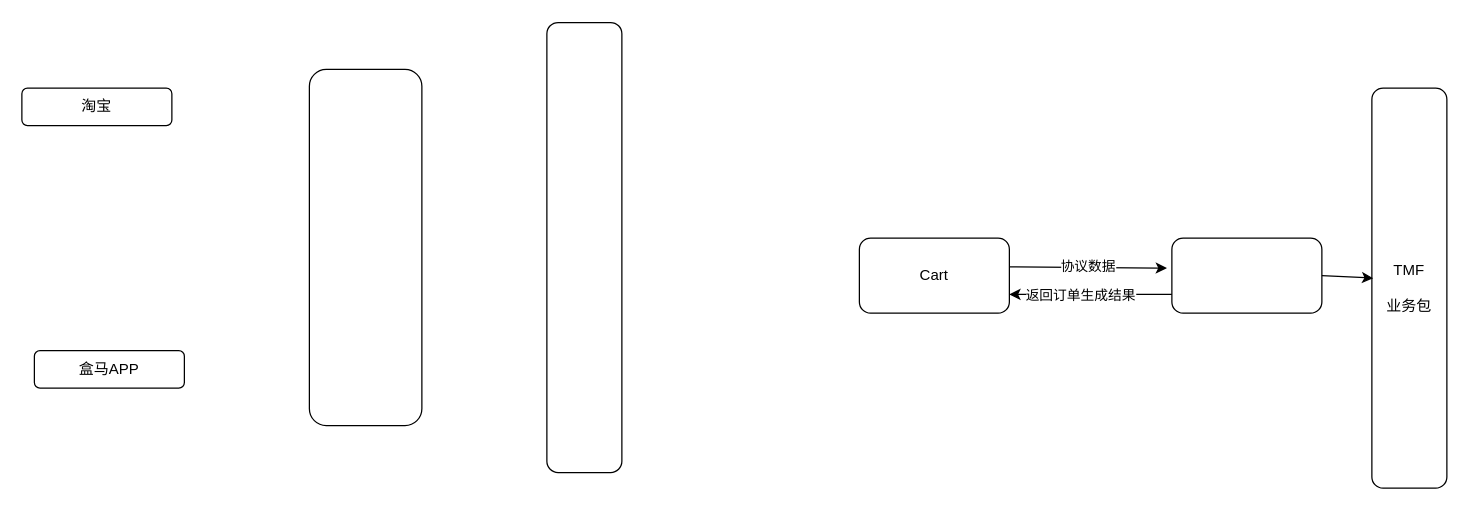
Image size: 1469x510. Some labels were removed from this diagram. Here are the shapes that lost their labels. From the top down, the centre of each, then its label:
At (365,247): "风控 RMB".
At (1246,275): "Buy2 订单中台 共享".
